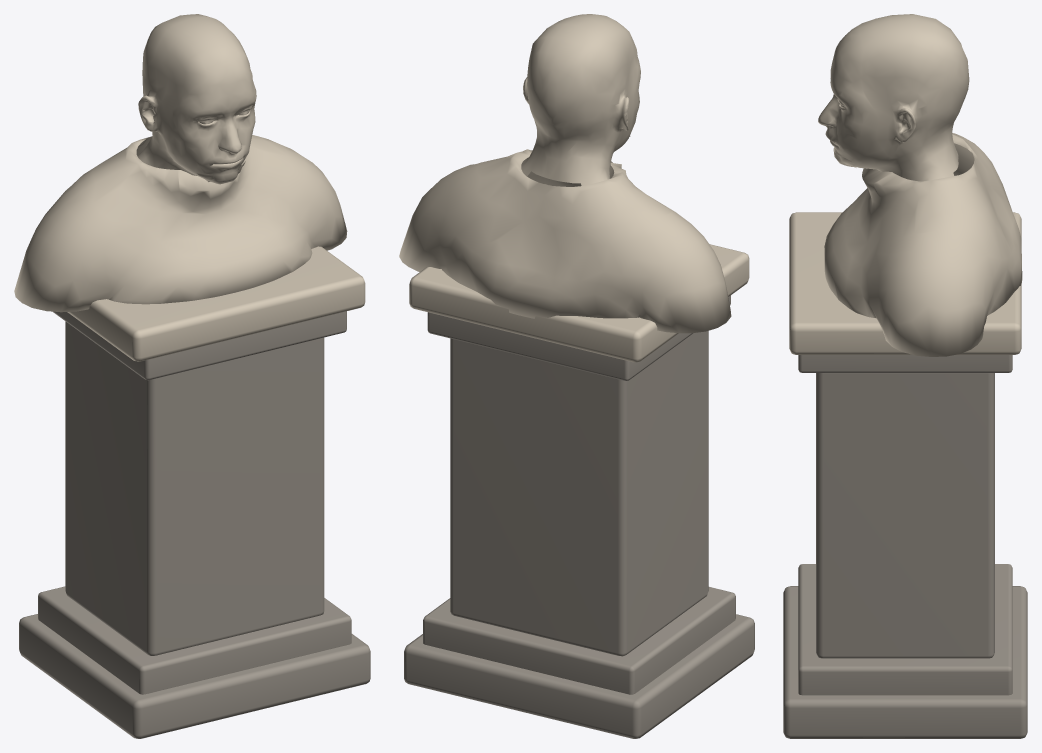
The model's file is ancestor_bust.glb.
3 views of the same model, side by side, from view 1: azimuth 30°, elevation 25°; view 2: azimuth 150°, elevation 25°; view 3: azimuth 270°, elevation 25° (orthographic). The views are drawn at different scales.
Parts seen in each view (by area): view 1: Pedestal die, HeroTunic carving, Foot, HeroBody carving, Upper stone, Middle fillet, Capital; view 2: Pedestal die, HeroTunic carving, HeroBody carving, Foot, Middle fillet, Upper stone, Capital; view 3: Pedestal die, HeroTunic carving, HeroBody carving, Foot, Middle fillet, Upper stone, Capital.
Part boxes in pixels (x1,y1,x2,y2): Pedestal die: (65,321,324,655); HeroTunic carving: (14,135,347,312); Foot: (19,614,370,738); HeroBody carving: (137,14,256,178); Upper stone: (67,246,365,361); Middle fillet: (38,586,351,694); Capital: (53,311,346,380); Pedestal die: (450,331,708,656); HeroTunic carving: (399,149,731,333); HeroBody carving: (521,14,640,185); Foot: (404,614,754,738); Middle fillet: (423,587,735,694); Upper stone: (409,244,749,362); Capital: (427,295,730,380); Pedestal die: (816,373,994,658); HeroTunic carving: (824,133,1022,356); HeroBody carving: (818,14,969,181); Foot: (783,586,1027,738); Middle fillet: (798,564,1012,695); Upper stone: (789,212,1021,354); Capital: (798,355,1012,372).
Bounding box in the file's own units: 0.6336 × 1.23 × 0.41.
